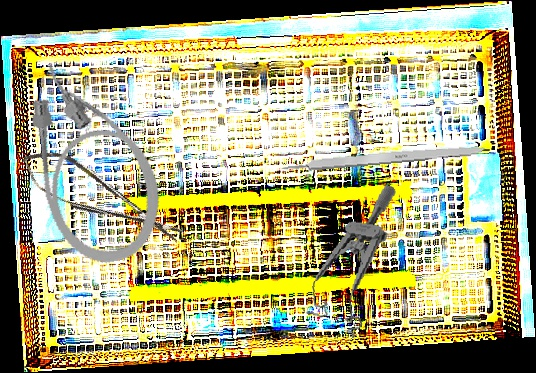Cannula: (12, 44, 174, 275)
Micro Scissor: (14, 137, 188, 260)
Scalpel Handle: (279, 140, 491, 174)
Speculum: (302, 174, 398, 342)
